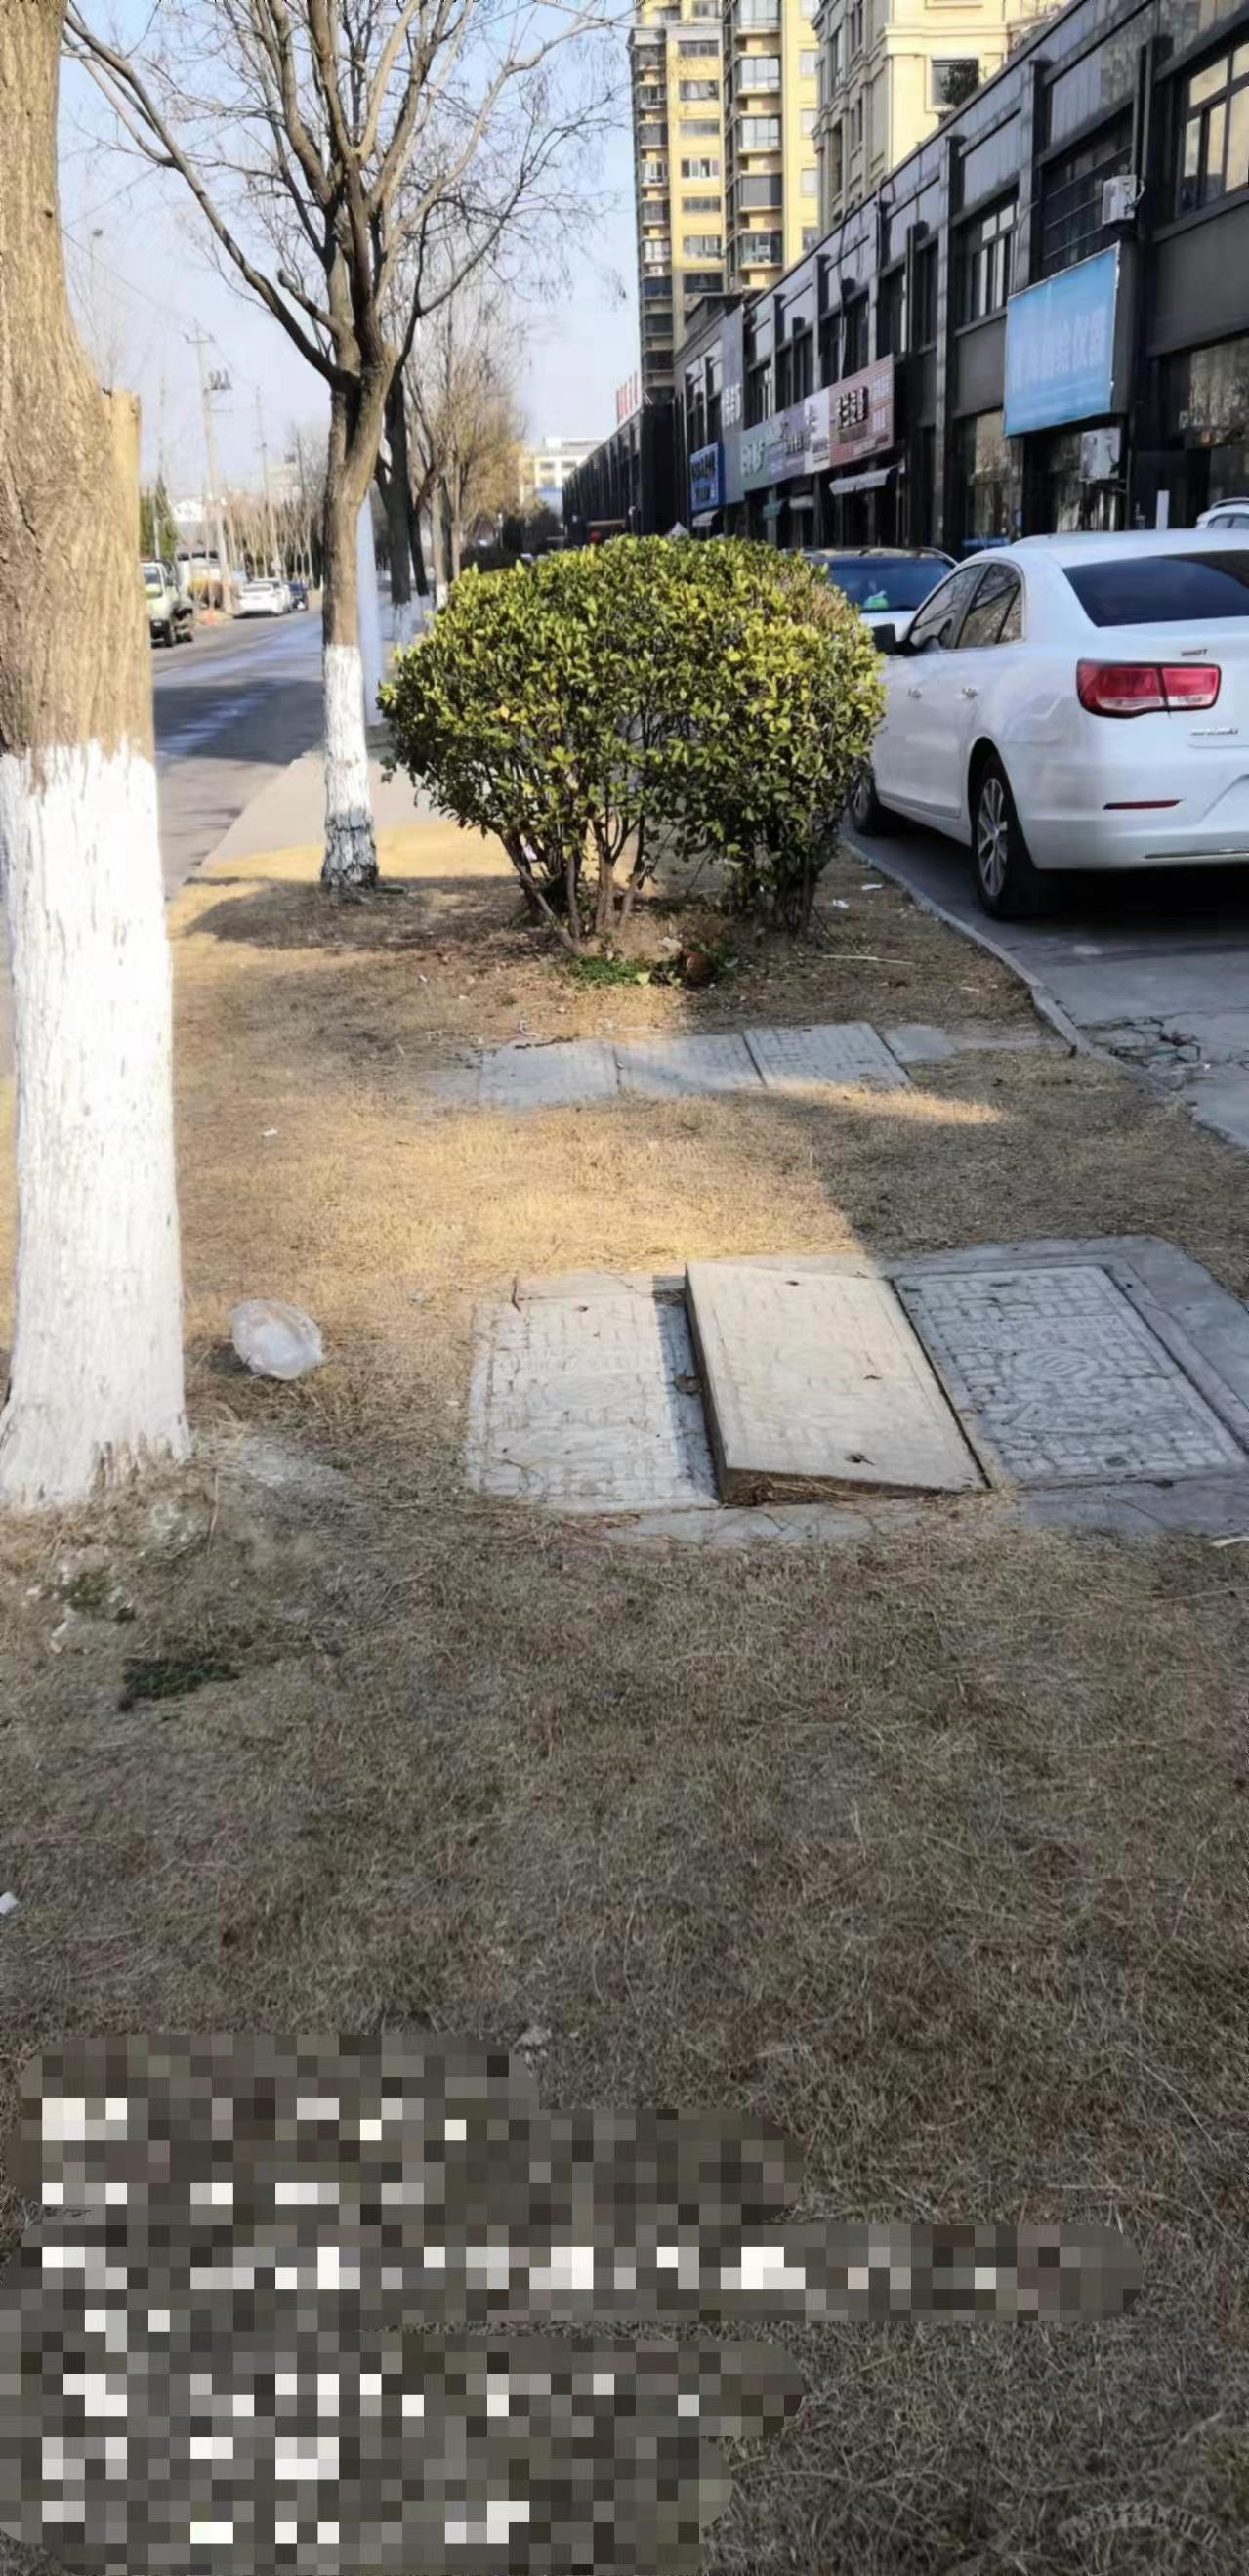wellcover: (373, 1203, 1249, 1571), (437, 979, 940, 1114)
